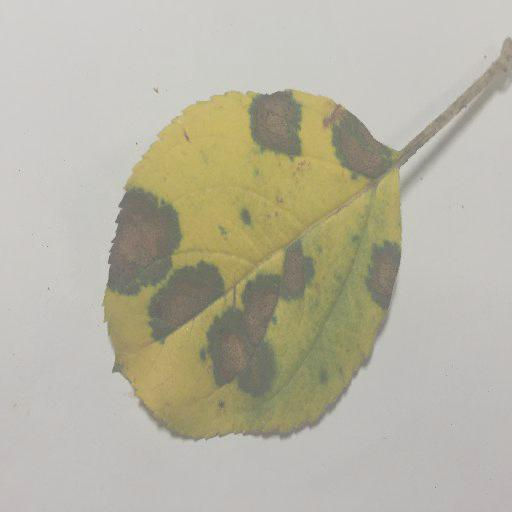Brown_Spot: (106, 187, 172, 284), (317, 107, 389, 185), (247, 243, 314, 321), (240, 91, 305, 165), (147, 268, 211, 330), (223, 319, 268, 390), (367, 237, 397, 313)
